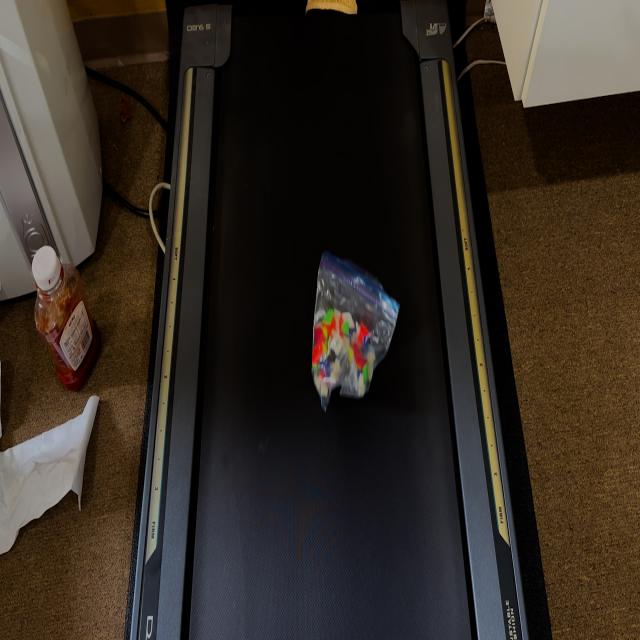Trash: (312, 248, 401, 412)
